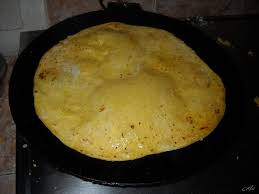Farata: (24, 12, 231, 168)
